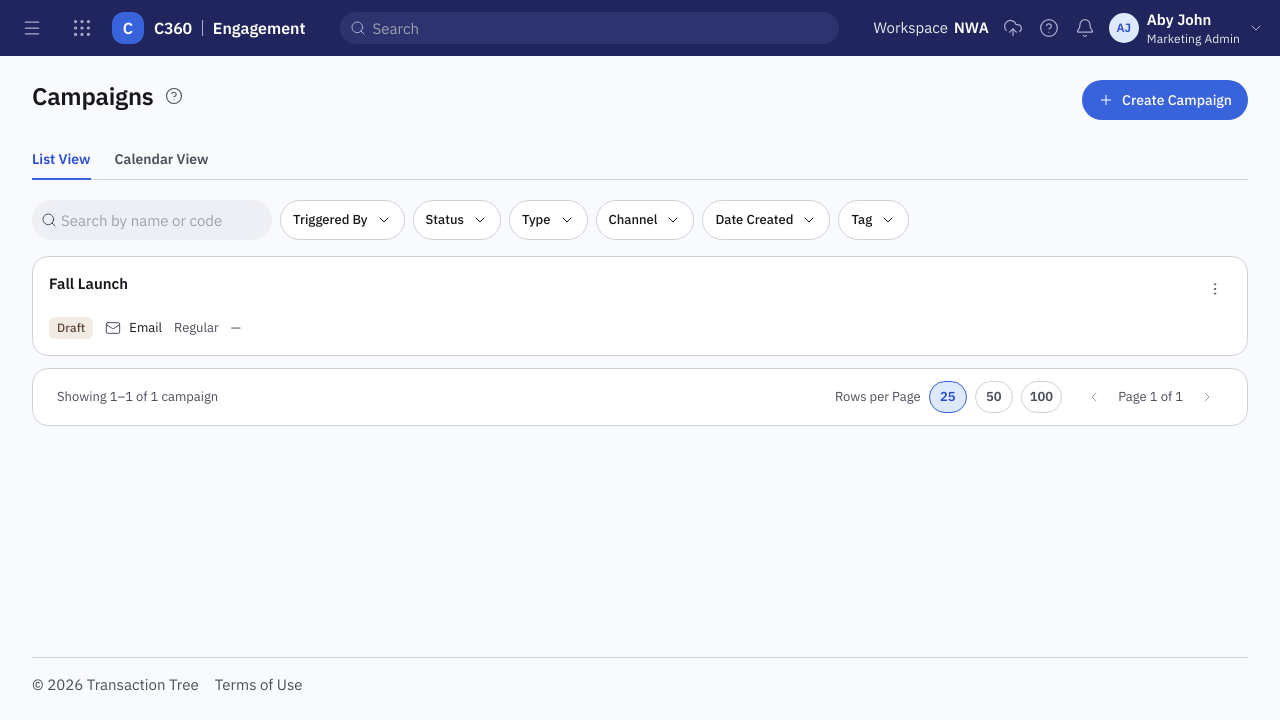
Scenario: on a phone the top bar’s menu button opens the rail and the menu over the page and closes them again
Click the button named "Open navigation": (32, 28) x1=12 y1=8 x2=52 y2=48
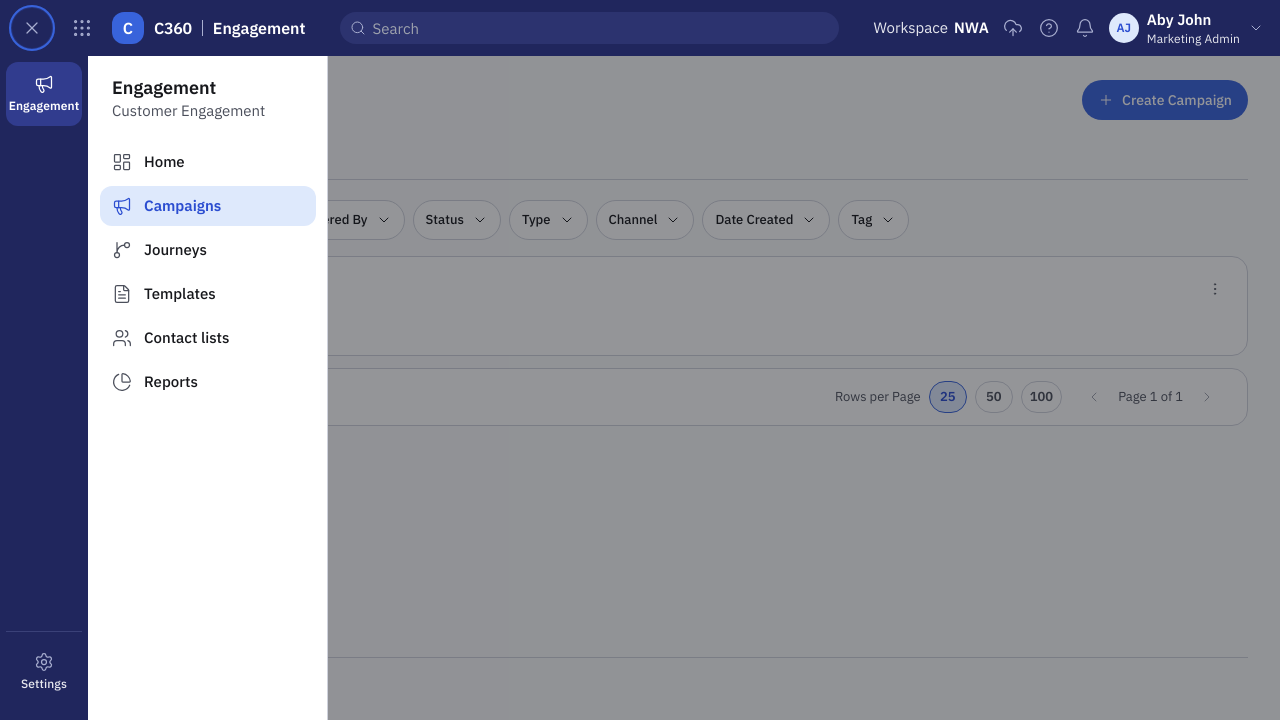
Now the link "Engagement" is shown, box x1=6 y1=62 x2=82 y2=126
Now the link "Campaigns" is shown, box x1=100 y1=186 x2=316 y2=226
Now the button named "Close navigation" is expanded
Click the button named "Close navigation": (32, 28) x1=12 y1=8 x2=52 y2=48
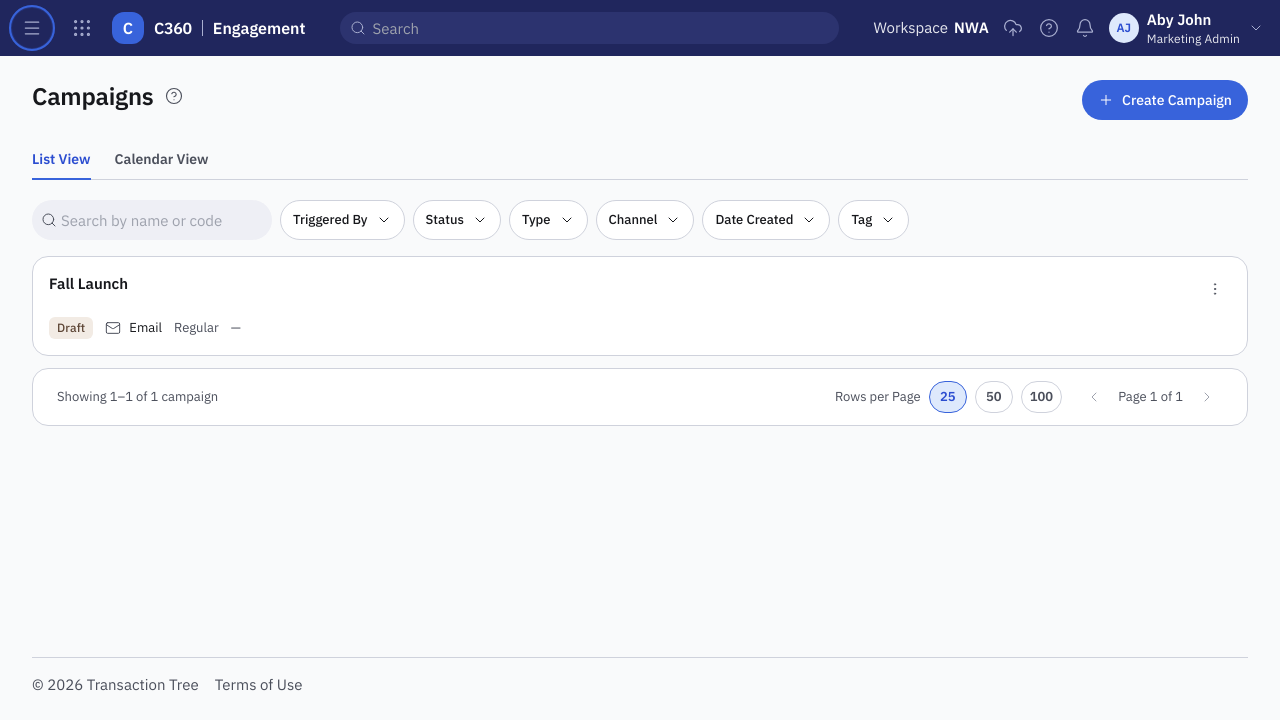
Now the element "Sidebar" is gone
